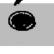correct: (6, 10, 38, 32)
